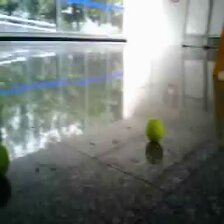tennis: (145, 119, 164, 140)
